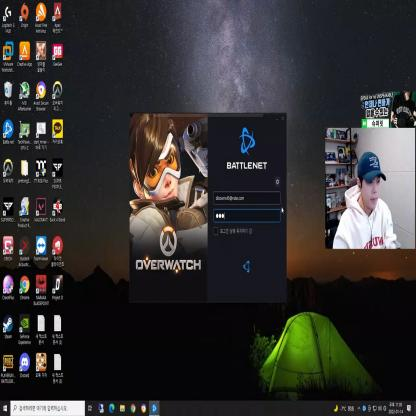streamer: (333, 152, 396, 249)
